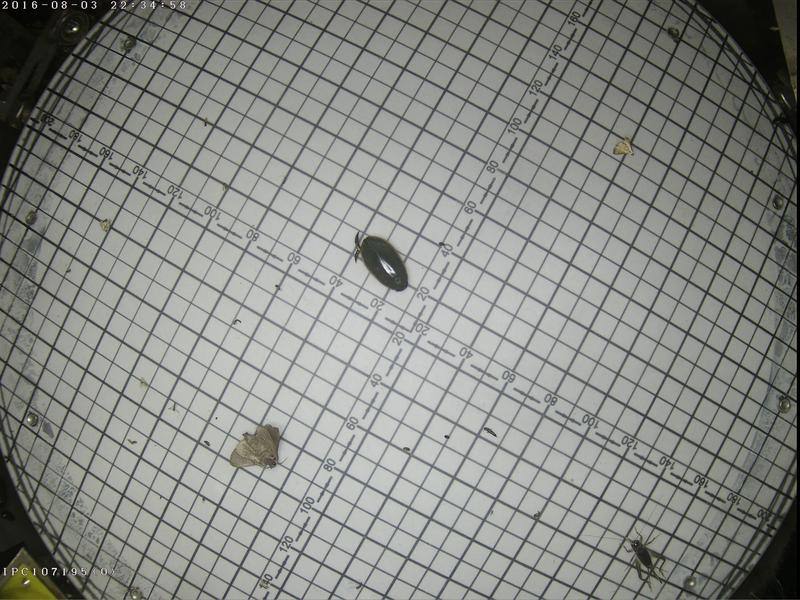Rice Leaf Roller: (611, 134, 633, 157)
